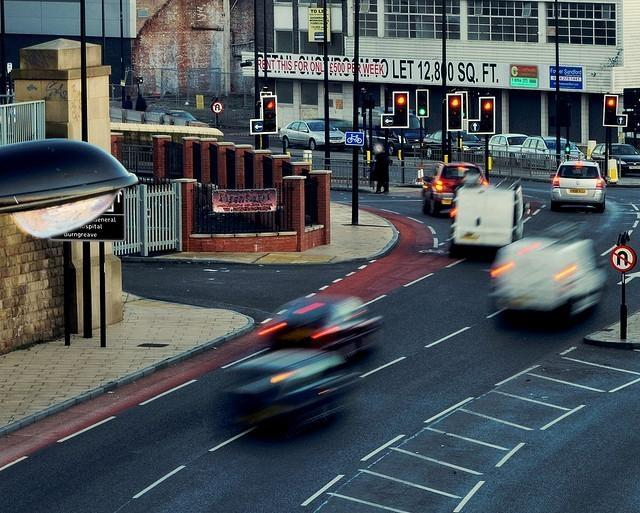car: (485, 228, 613, 330), (224, 348, 348, 443), (256, 291, 386, 366), (422, 160, 486, 216), (550, 160, 608, 210), (278, 118, 344, 149), (423, 130, 485, 158), (520, 136, 584, 156), (591, 144, 640, 162), (488, 133, 529, 151), (149, 106, 199, 120), (617, 161, 640, 176)
truck: (489, 232, 608, 335), (450, 174, 522, 261)
